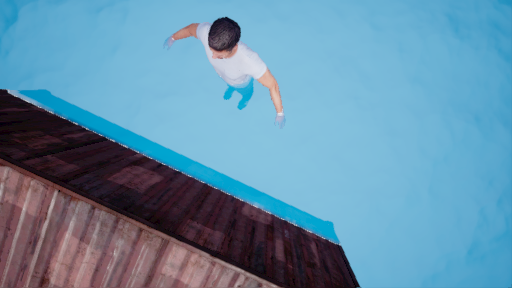person: (161, 22, 308, 140)
